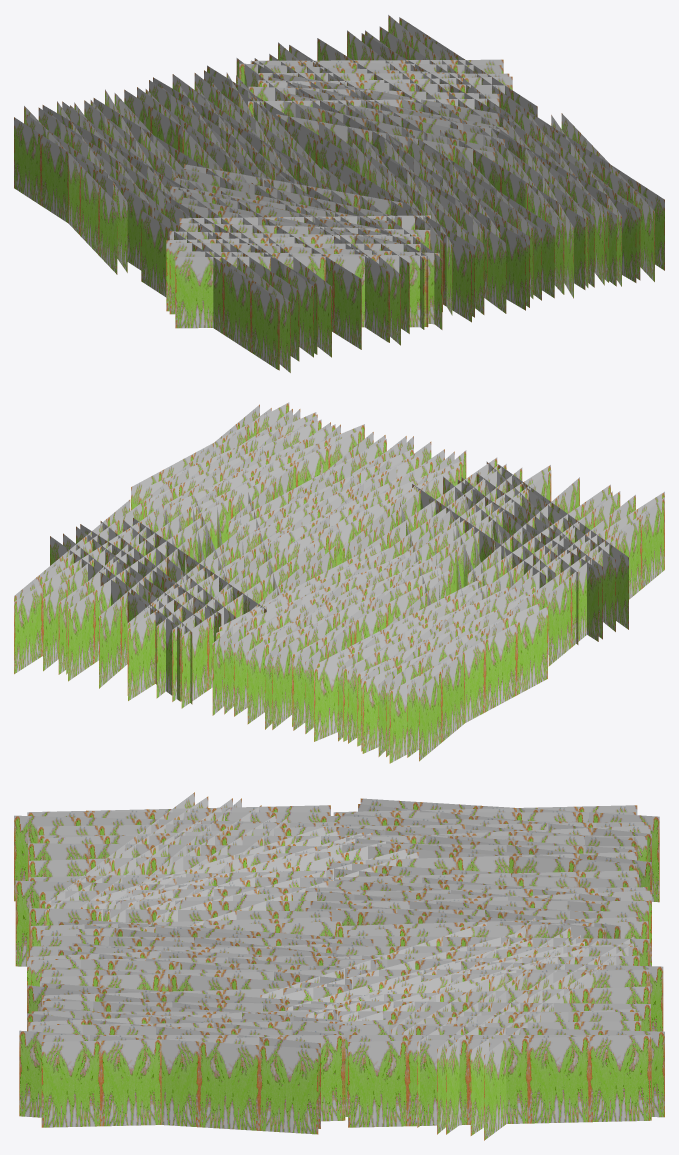
The model's file is barley field.obj.
The picture shows the model from 3 angles, top to bottom: view 1: azimuth 30°, elevation 25°; view 2: azimuth 150°, elevation 25°; view 3: azimuth 270°, elevation 25°; orthographic projection. The views are drawn at different scales.
Parts seen in each view (by area): view 1: Plane; view 2: Plane; view 3: Plane.
Boxes of the visible parts, x1,y1,x2,y2 form: Plane: [14, 15, 664, 372]; Plane: [14, 402, 664, 763]; Plane: [14, 792, 664, 1140].
Bounding box in the file's own units: 0.4218 × 0.0641 × 0.4409.
Materials: 1 (1 with a texture image).
